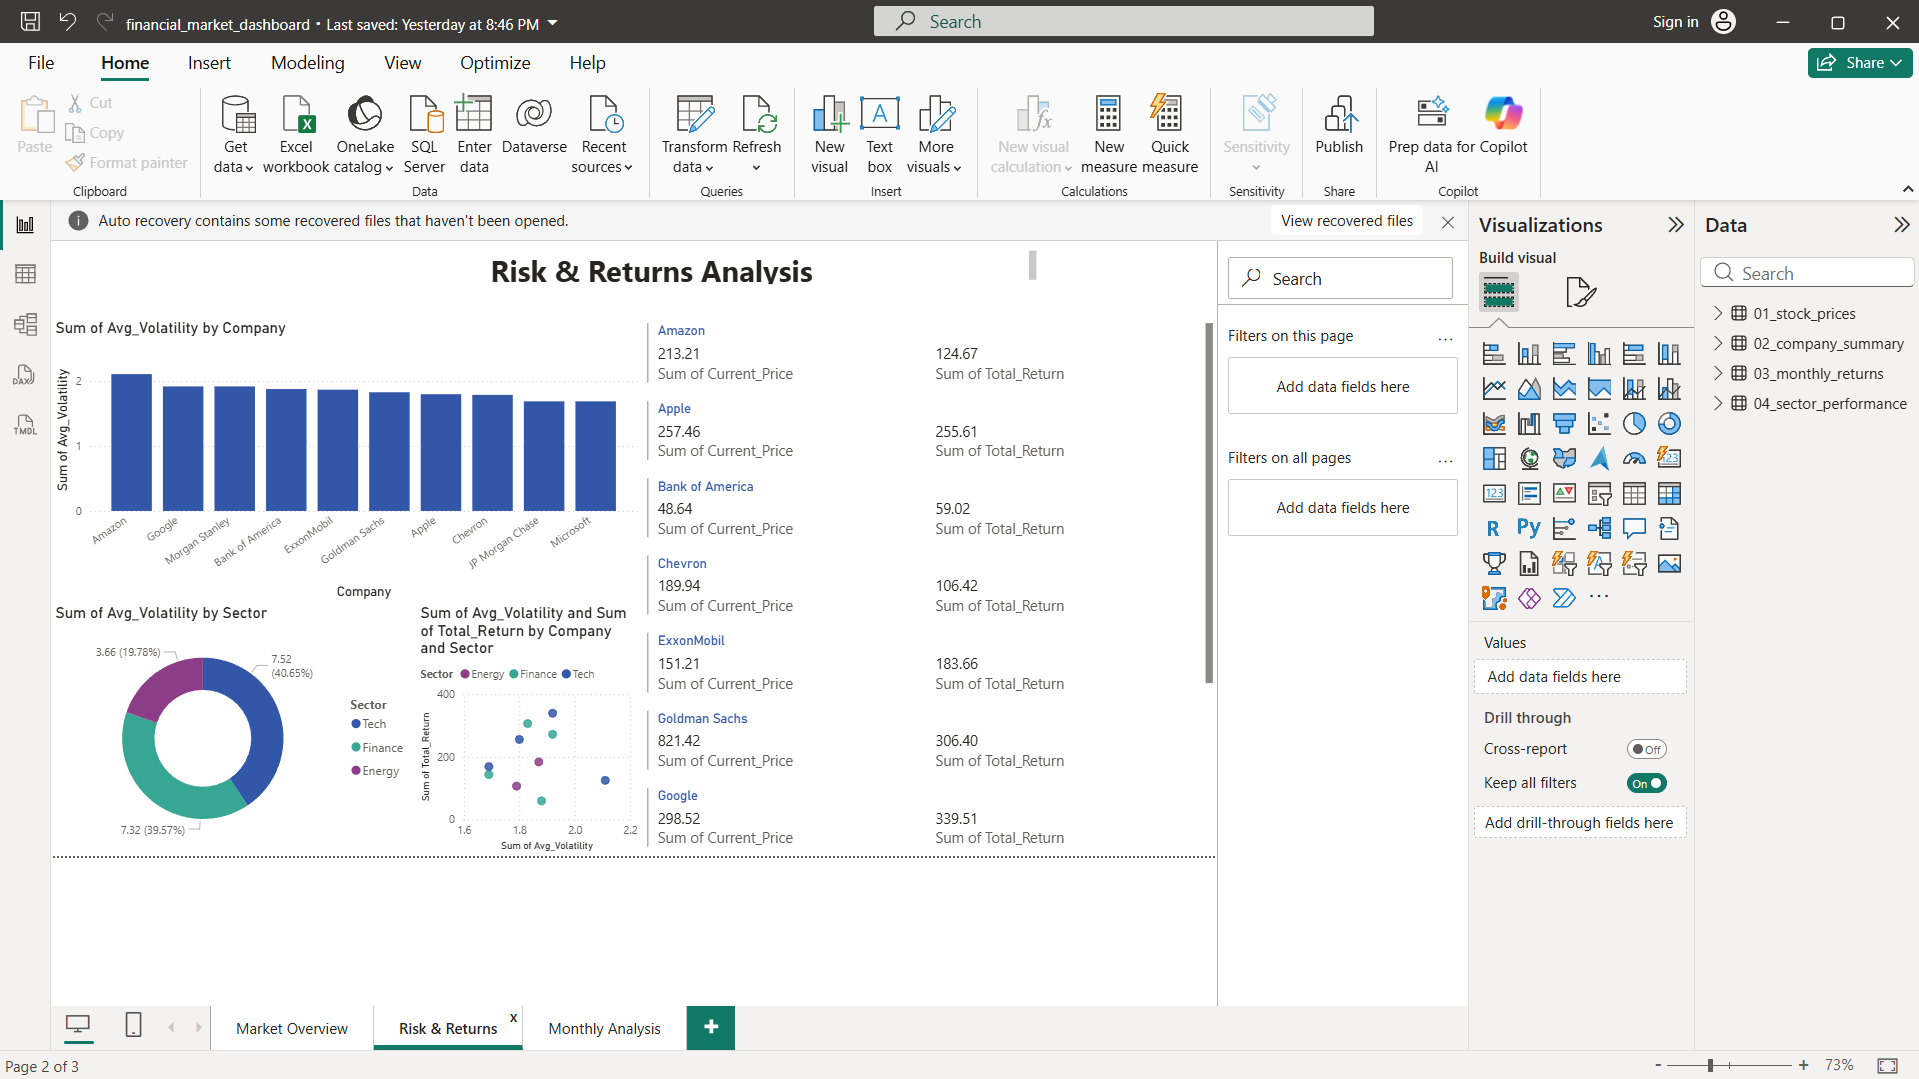

This screenshot's page, from the dashboard's own definition file:
{"tool":"powerbi","page":{"name":"Risk & Returns","canvas":[1280,720],"ordinal":1},"visuals":[{"type":"clusteredColumnChart","fields":{"Category":["02_company_summary.Company"],"Y":["Sum(02_company_summary.Avg_Volatility)"]},"box":[0,31.1,704.2,365.7],"z":0},{"type":"donutChart","fields":{"Category":["02_company_summary.Sector"],"Y":["Sum(02_company_summary.Avg_Volatility)"]},"box":[0,396.8,434.8,322.9],"z":1000},{"type":"multiRowCard","fields":{"Values":["02_company_summary.Company","Sum(02_company_summary.Current_Price)","Sum(02_company_summary.Total_Return)"]},"box":[704.2,39.9,575.8,679.9],"z":2000},{"type":"scatterChart","fields":{"X":["Sum(02_company_summary.Avg_Volatility)"],"Y":["Sum(02_company_summary.Total_Return)"],"Category":["02_company_summary.Company"],"Series":["02_company_summary.Sector"]},"box":[434.8,396.8,269.4,322.9],"z":3000}]}

Visuals, with their boxes on the page's 1280x720 design canvas (x1, y1, x2, y2). These are canvas units, not pixel positions in the 1919x1079 screenshot, which may show the page scaled, cropped or inside an application window:
clusteredColumnChart - 02_company_summary.Company x Sum(02_company_summary.Avg_Volatility): <box>0,31,704,397</box>
donutChart - 02_company_summary.Sector x Sum(02_company_summary.Avg_Volatility): <box>0,397,435,720</box>
multiRowCard - 02_company_summary.Company x Sum(02_company_summary.Current_Price): <box>704,40,1280,720</box>
scatterChart - Sum(02_company_summary.Avg_Volatility) x Sum(02_company_summary.Total_Return): <box>435,397,704,720</box>
